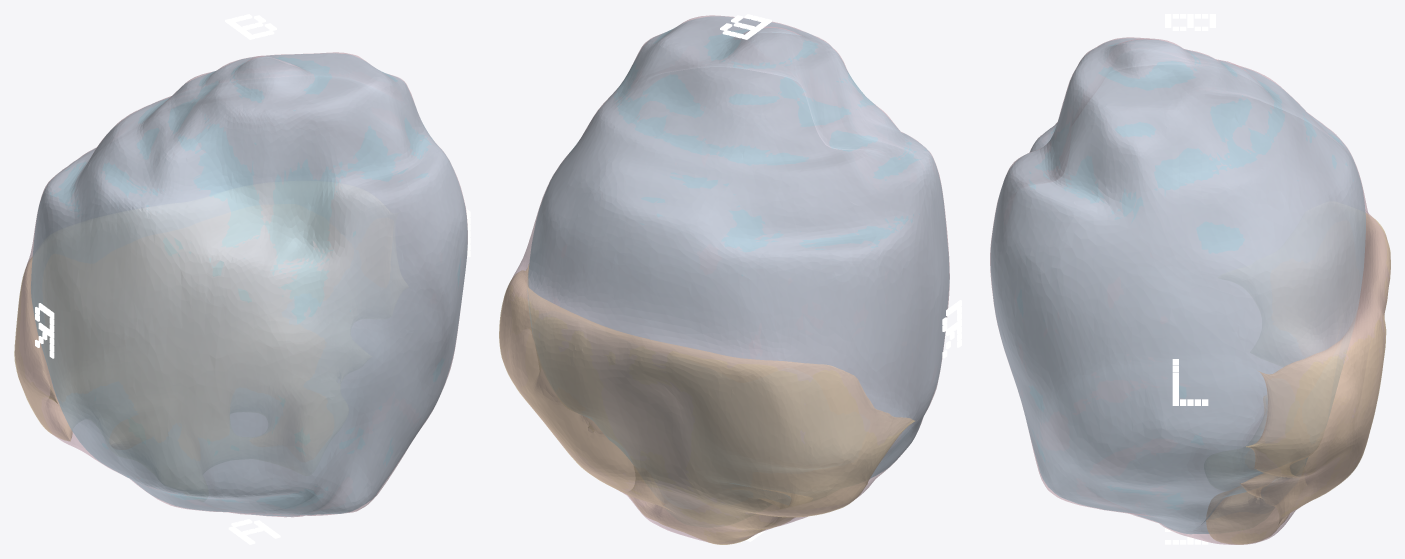
The picture shows the model from 3 angles, left to right: view 1: azimuth 30°, elevation 25°; view 2: azimuth 150°, elevation 25°; view 3: azimuth 270°, elevation 25°; orthographic projection.
Visible parts, largest first — view 1: prostate_gland, transition_zone, peripheral_zone, pv_ar_marker_B, pv_ar_marker_R, pv_ar_marker_A; view 2: prostate_gland, transition_zone, peripheral_zone, pv_ar_marker_B, pv_ar_marker_R; view 3: prostate_gland, transition_zone, peripheral_zone, pv_ar_marker_B, pv_ar_marker_L.
Part boxes in pixels (left/top/right/bottom): prostate_gland: left=15, top=52, right=467, bottom=517; transition_zone: left=31, top=53, right=467, bottom=516; peripheral_zone: left=14, top=256, right=128, bottom=440; pv_ar_marker_B: left=225, top=14, right=276, bottom=39; pv_ar_marker_R: left=35, top=303, right=54, bottom=358; pv_ar_marker_A: left=228, top=519, right=280, bottom=544; prostate_gland: left=500, top=15, right=949, bottom=544; transition_zone: left=527, top=16, right=949, bottom=486; peripheral_zone: left=499, top=265, right=914, bottom=544; pv_ar_marker_B: left=720, top=14, right=771, bottom=39; pv_ar_marker_R: left=942, top=300, right=961, bottom=358; prostate_gland: left=990, top=37, right=1390, bottom=544; transition_zone: left=991, top=38, right=1365, bottom=533; peripheral_zone: left=1206, top=213, right=1390, bottom=544; pv_ar_marker_B: left=1165, top=14, right=1215, bottom=30; pv_ar_marker_L: left=1172, top=359, right=1208, bottom=405.
Size of the model in its own units: 0.0709 by 0.0822 by 0.058.
